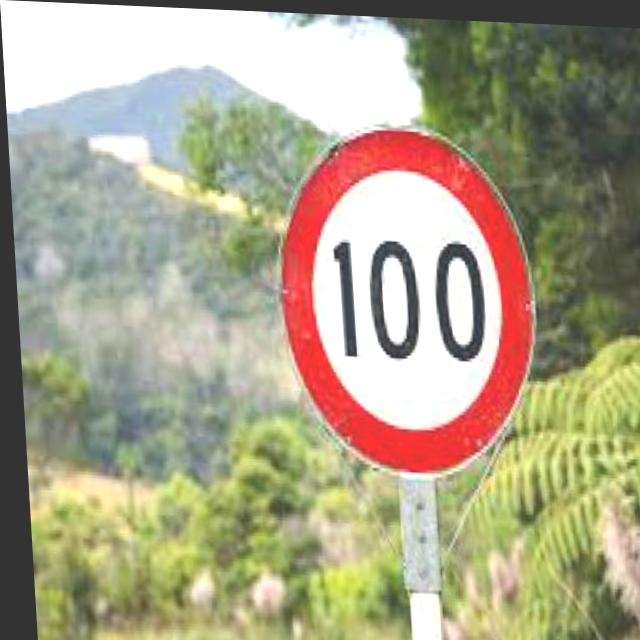limit100: (262, 110, 545, 487)
